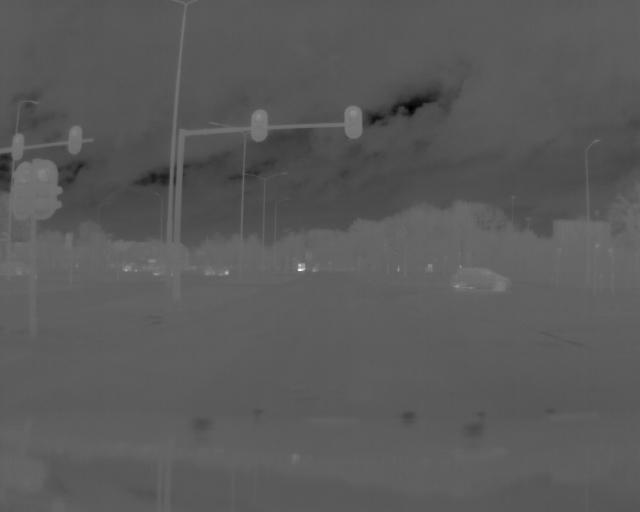car: (448, 265, 518, 296)
